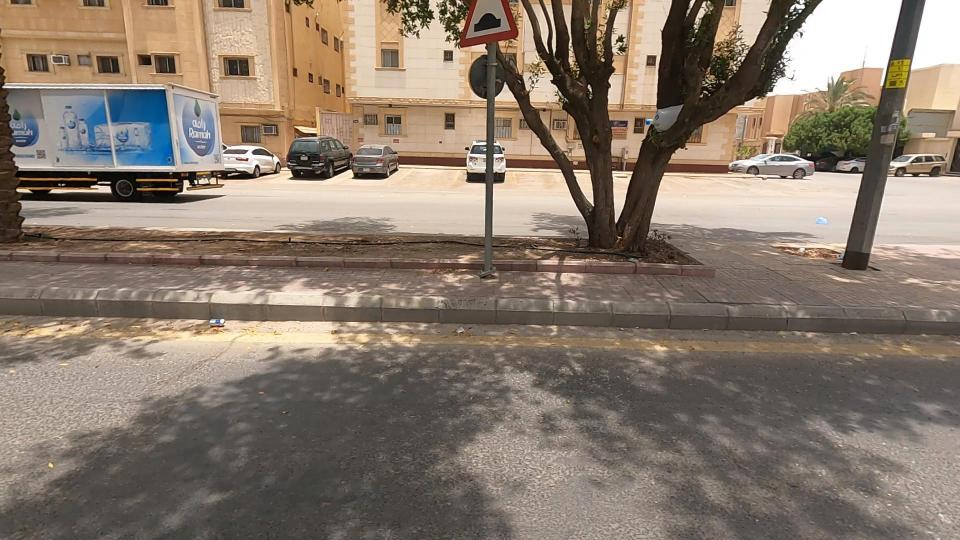CLUTTER_SIDEWALK: (0, 197, 615, 289)
GARBAGE: (156, 290, 271, 348)
